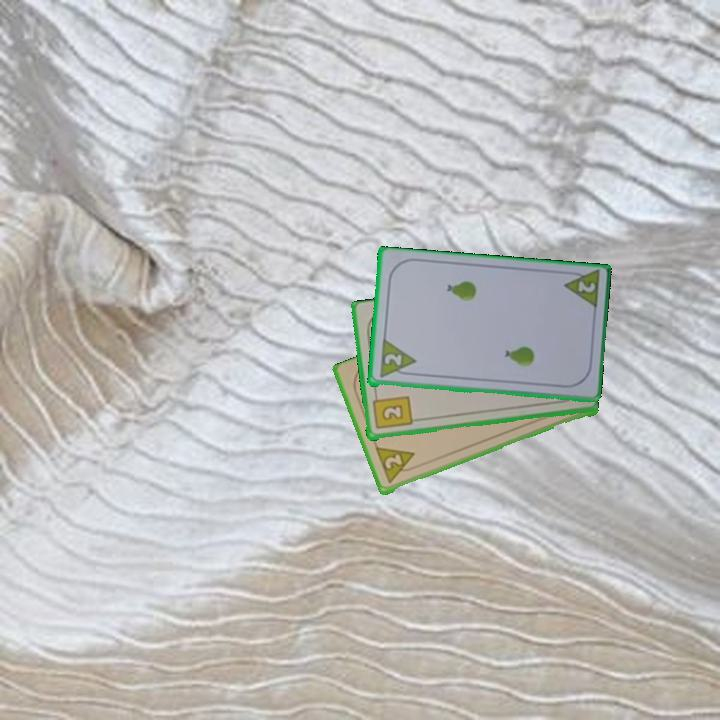2b: (369, 390, 414, 432)
2p: (372, 444, 421, 487), (380, 350, 405, 370), (574, 278, 598, 296)
